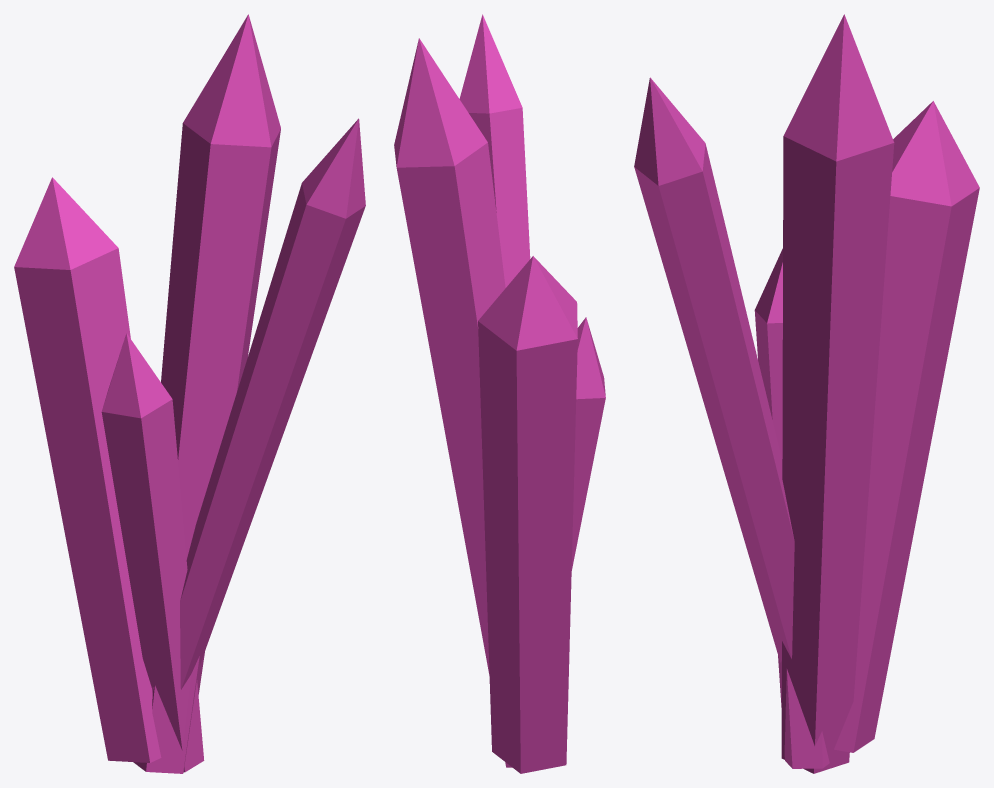
The model's file is small_crystals_13_3.fbx.
The picture shows the model from 3 angles, left to right: view 1: azimuth 30°, elevation 25°; view 2: azimuth 150°, elevation 25°; view 3: azimuth 270°, elevation 25°; orthographic projection. The views are drawn at different scales.
Parts seen in each view (by area): view 1: small crystals.023; view 2: small crystals.023; view 3: small crystals.023.
Boxes of the visible parts, bbox=[...] form: small crystals.023: bbox=[14, 14, 365, 773]; small crystals.023: bbox=[394, 14, 605, 773]; small crystals.023: bbox=[634, 14, 979, 773].
Size of the model in its own units: 117 by 347 by 136.
